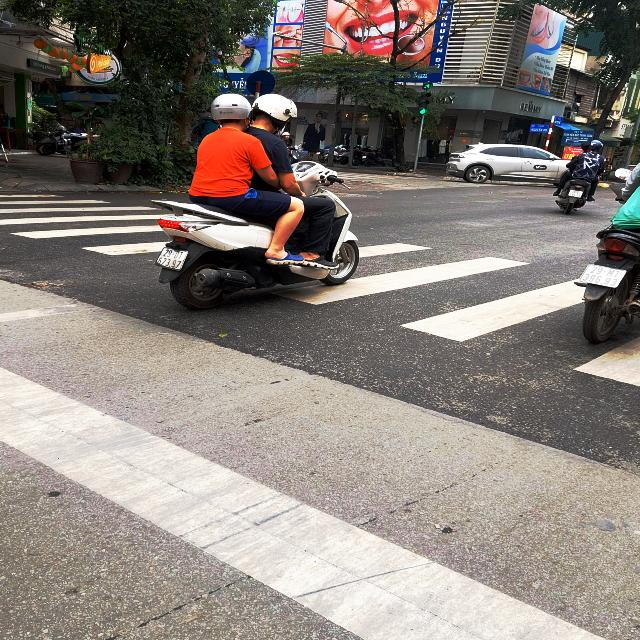license_plate: (152, 244, 193, 274), (580, 264, 629, 289), (568, 190, 585, 200)
